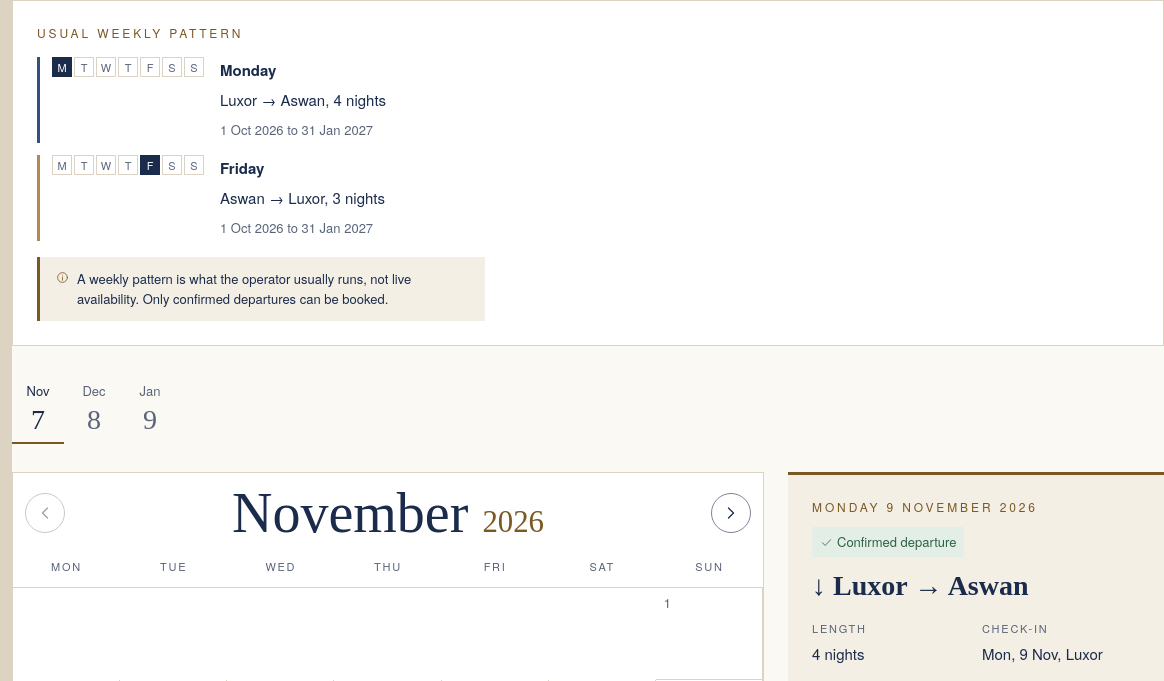
SailingCalendar › moves between months with the arrows and the month strip
The width and height of the screenshot is (1164, 681).
Click the button named "Next month" at coordinates (731, 513), box top-left (711, 493), bottom-right (751, 533)
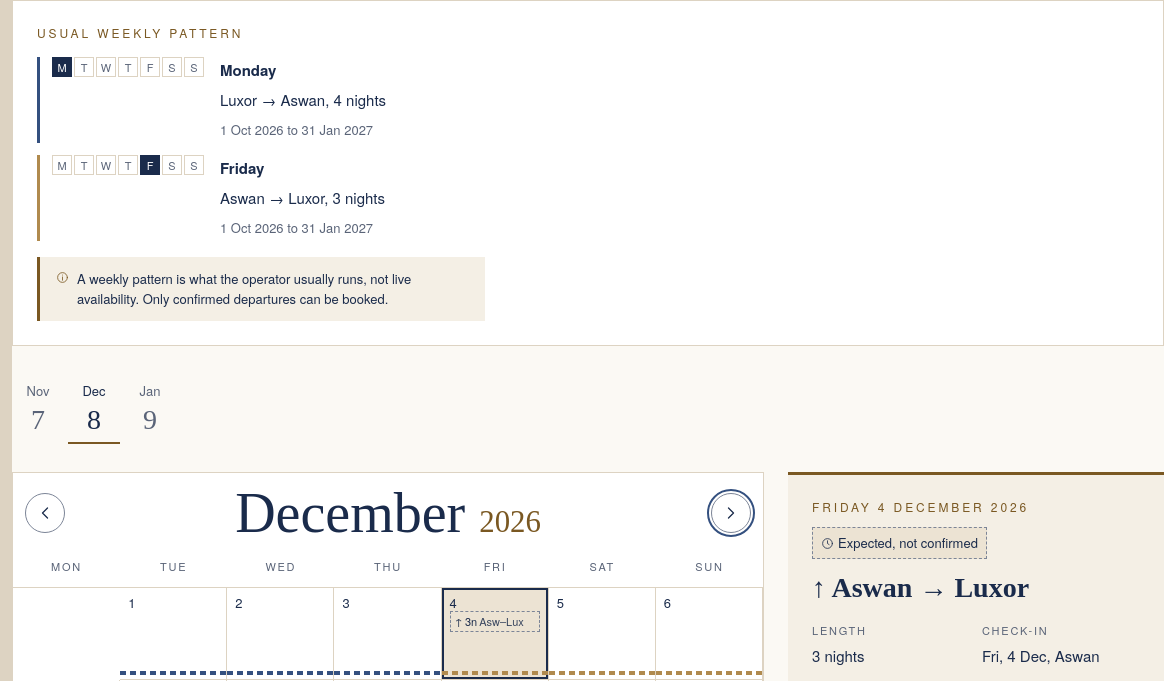
Now the heading "December 2026" is shown, box top-left (235, 485), bottom-right (541, 541)
Click the button named "January 2027" at coordinates (150, 407), box top-left (124, 370), bottom-right (176, 444)
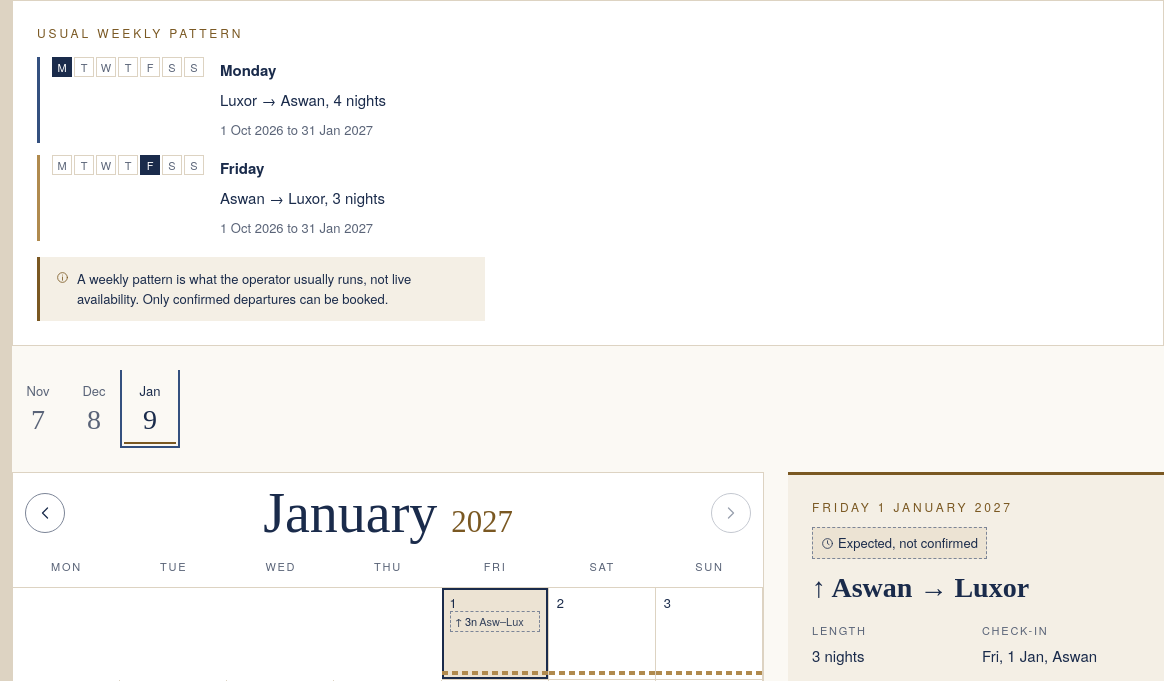
Now the heading "January 2027" is shown, box top-left (263, 485), bottom-right (513, 541)
Now the button named "Next month" is disabled, box top-left (711, 493), bottom-right (751, 533)
